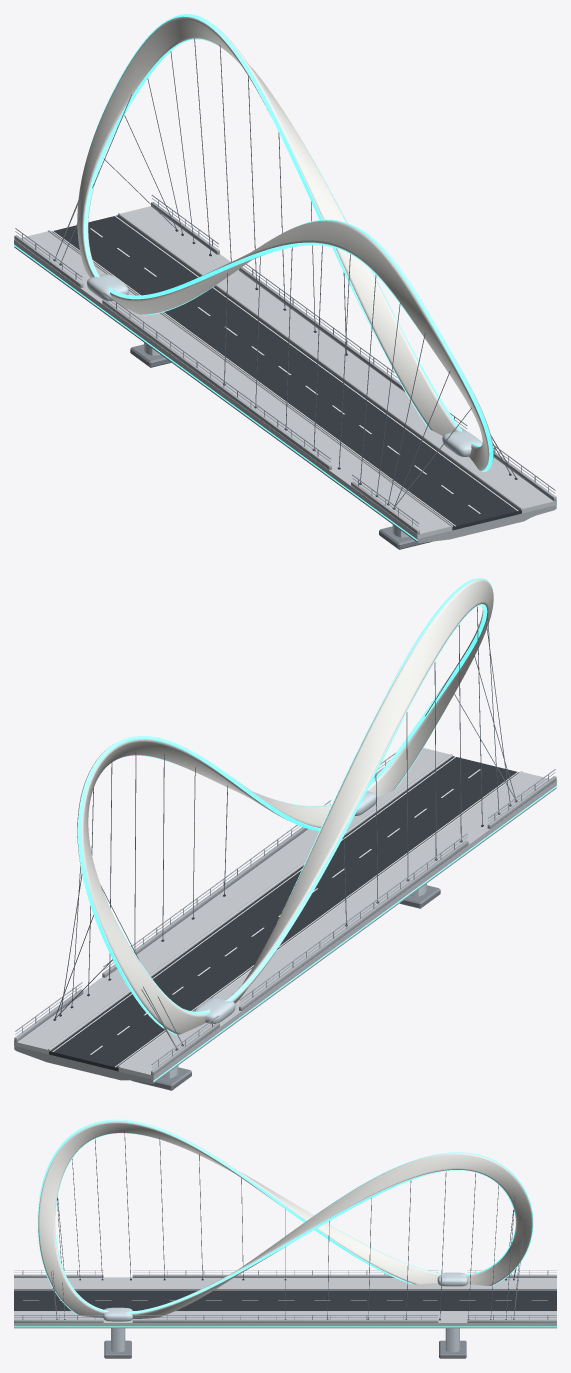
The model's file is ponte_laco.glb.
3 views of the same model, one above another, from view 1: azimuth 30°, elevation 25°; view 2: azimuth 150°, elevation 25°; view 3: azimuth 270°, elevation 25° (orthographic). The views are drawn at different scales.
Visible parts, largest first — view 1: ponte_laco; view 2: ponte_laco; view 3: ponte_laco.
Part boxes in pixels (x1,y1,x2,y2): ponte_laco: [14, 14, 556, 549]; ponte_laco: [14, 578, 556, 1090]; ponte_laco: [14, 1119, 556, 1358].
Size of the model in its own units: 15 by 32.92 by 75.
Materials: 2 (1 with a texture image).
